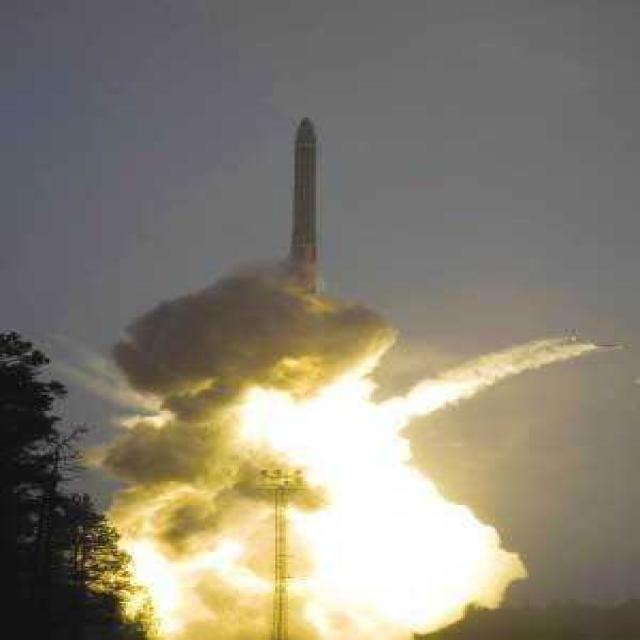missile: (287, 115, 329, 282)
